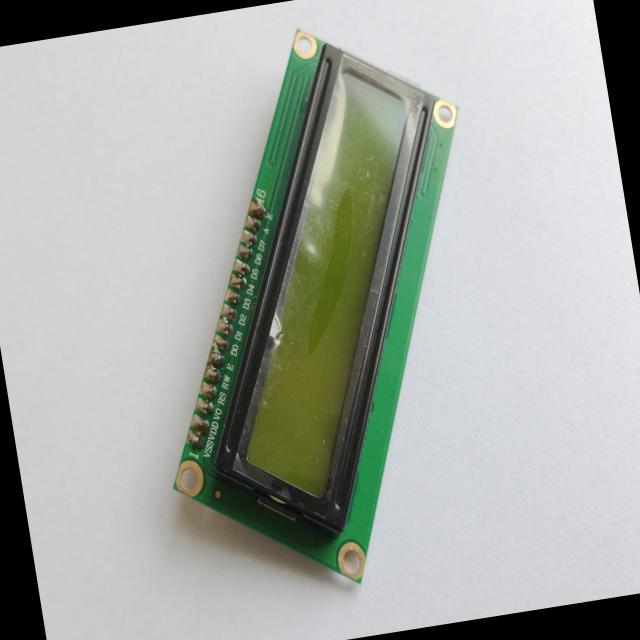lcd: (84, 0, 544, 625)
